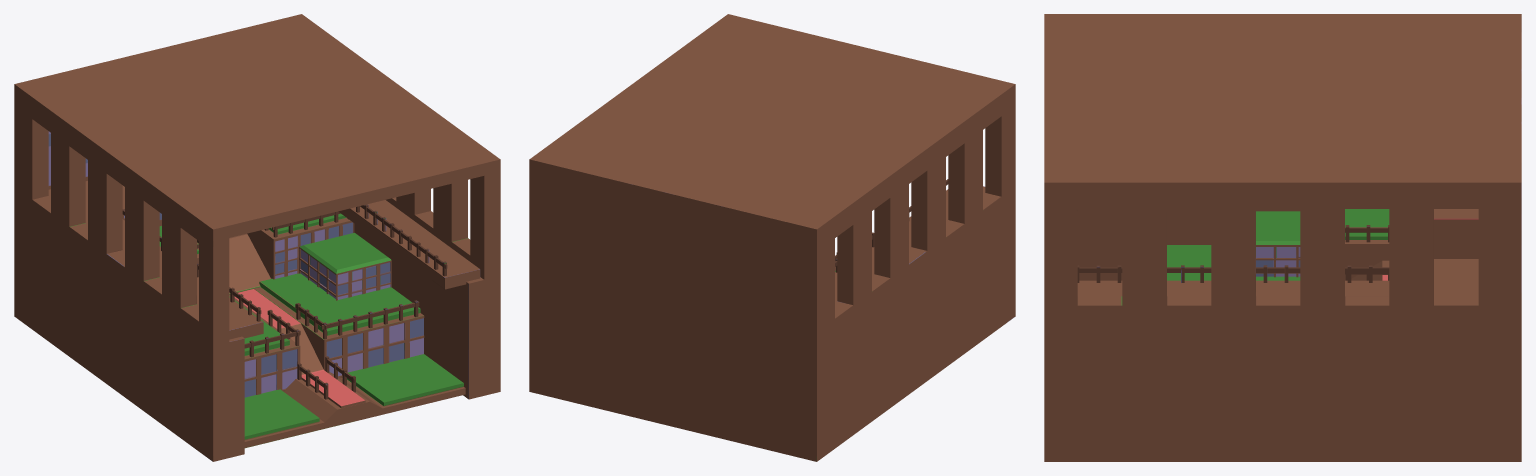
File: ExpandingHallway.fbx
3 views of the same model, side by side, from view 1: azimuth 30°, elevation 25°; view 2: azimuth 150°, elevation 25°; view 3: azimuth 270°, elevation 25° (orthographic). The views are drawn at different scales.
Parts seen in each view (by area): view 1: Cube.007; view 2: Cube.007; view 3: Cube.007.
Boxes of the visible parts, left/top/right/bottom form: Cube.007: left=14, top=14, right=500, bottom=461; Cube.007: left=529, top=14, right=1015, bottom=461; Cube.007: left=1044, top=14, right=1521, bottom=461.
Bounding box in the file's own units: 3550 × 2743 × 4250.
Materials: 1 (1 with a texture image).
